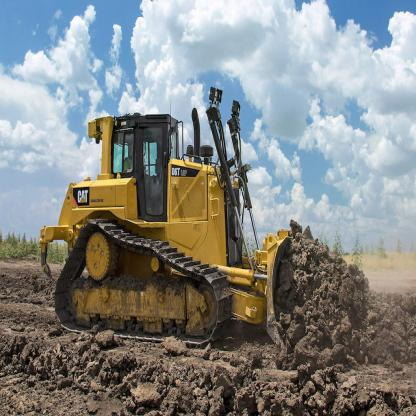bull_dozer/loader/grader: (40, 84, 328, 360)
